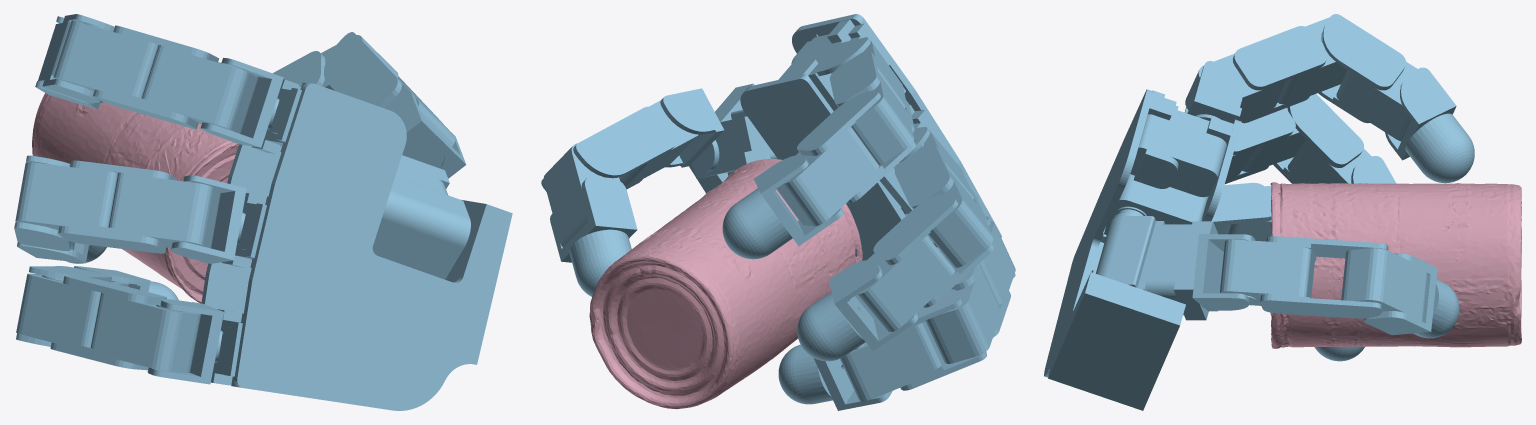
3 views of the same model, side by side, from view 1: azimuth 30°, elevation 25°; view 2: azimuth 150°, elevation 25°; view 3: azimuth 270°, elevation 25° (orthographic). The views are drawn at different scales.
Parts seen in each view (by area): view 1: world; view 2: world; view 3: world.
Part boxes in pixels (bbox=[...]): world: bbox=[14, 14, 512, 410]; world: bbox=[541, 14, 1015, 410]; world: bbox=[1044, 14, 1521, 410].
Bounding box in the file's own units: 0.1822 × 0.1402 × 0.1934.
